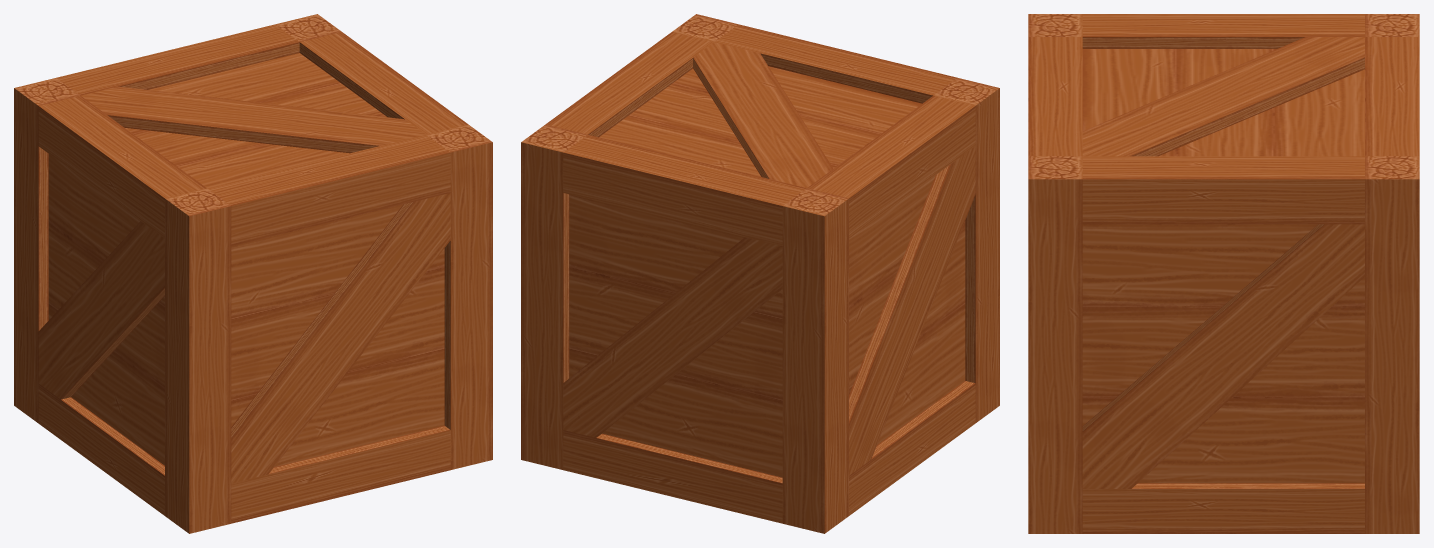
The model's file is Crate_02.fbx.
The picture shows the model from 3 angles, left to right: view 1: azimuth 30°, elevation 25°; view 2: azimuth 150°, elevation 25°; view 3: azimuth 270°, elevation 25°; orthographic projection. The views are drawn at different scales.
Parts seen in each view (by area): view 1: Cube.018; view 2: Cube.018; view 3: Cube.018.
Boxes of the visible parts, box(x1,y1,x2,y2) form: Cube.018: box(14, 14, 492, 533); Cube.018: box(521, 14, 999, 533); Cube.018: box(1028, 14, 1419, 533).
Size of the model in its own units: 200 by 200 by 200.
